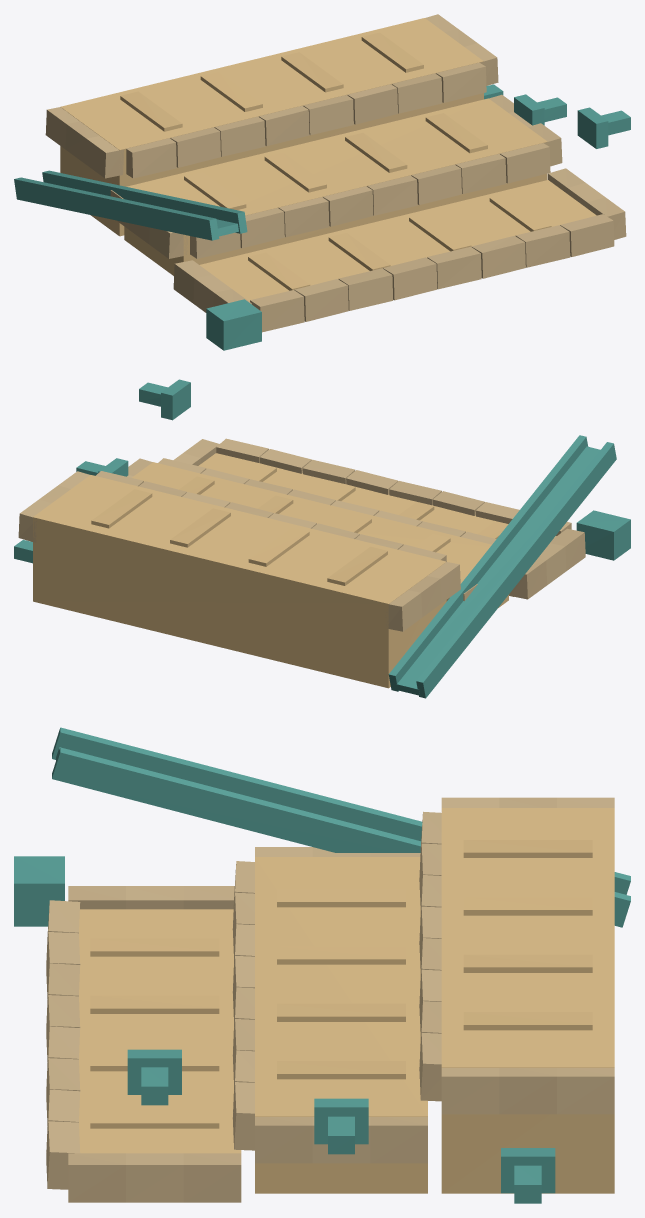
Rendered from Terrace.glb.
3 views of the same model, one above another, from view 1: azimuth 30°, elevation 25°; view 2: azimuth 150°, elevation 25°; view 3: azimuth 270°, elevation 25° (orthographic). The views are drawn at different scales.
Visible parts, largest first — view 1: terrace-static-terrace-compacted-earth-mat, terrace-static-terrace-warm-retaining-stone-mat, terrace-static-terrace-blue-grey-drainage-mat, terrace-static-terrace-dark-tilled-soil-mat; view 2: terrace-static-terrace-compacted-earth-mat, terrace-static-terrace-blue-grey-drainage-mat, terrace-static-terrace-warm-retaining-stone-mat, terrace-static-terrace-dark-tilled-soil-mat; view 3: terrace-static-terrace-compacted-earth-mat, terrace-static-terrace-warm-retaining-stone-mat, terrace-static-terrace-blue-grey-drainage-mat, terrace-static-terrace-dark-tilled-soil-mat.
Part boxes in pixels (x1,y1,x2,y2): terrace-static-terrace-compacted-earth-mat: [60, 18, 596, 301]; terrace-static-terrace-warm-retaining-stone-mat: [45, 14, 626, 332]; terrace-static-terrace-blue-grey-drainage-mat: [14, 84, 630, 350]; terrace-static-terrace-dark-tilled-soil-mat: [120, 32, 551, 290]; terrace-static-terrace-compacted-earth-mat: [33, 453, 556, 688]; terrace-static-terrace-blue-grey-drainage-mat: [14, 379, 630, 698]; terrace-static-terrace-warm-retaining-stone-mat: [18, 438, 585, 631]; terrace-static-terrace-dark-tilled-soil-mat: [91, 463, 507, 585]; terrace-static-terrace-compacted-earth-mat: [79, 808, 614, 1193]; terrace-static-terrace-warm-retaining-stone-mat: [46, 797, 614, 1202]; terrace-static-terrace-blue-grey-drainage-mat: [14, 727, 630, 1203]; terrace-static-terrace-dark-tilled-soil-mat: [90, 840, 592, 1128].
Bounding box in the file's own units: 4.48 × 1.16 × 3.64.
